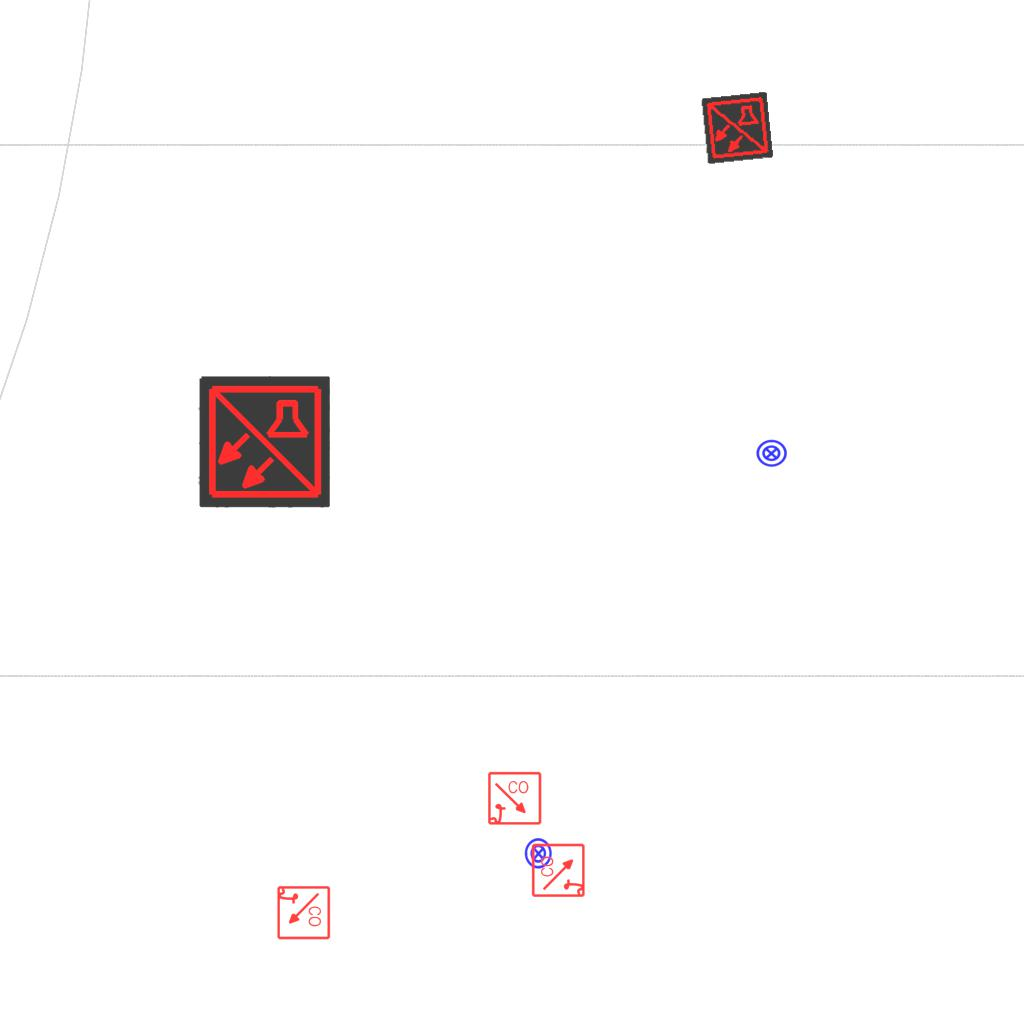OKW_Multisensormelder_(Kombination_optischer_Rauch-Kahlenmonoxid_Waerme-Melder): (198, 376, 330, 508), (700, 91, 774, 165)
ROA_Rauchmelder_optisch_mit_Signalgeber_(Sockelsirene): (275, 885, 331, 941), (487, 771, 543, 827), (531, 842, 587, 898)
Taster_beleuchtet: (522, 837, 555, 870), (755, 437, 788, 470)
